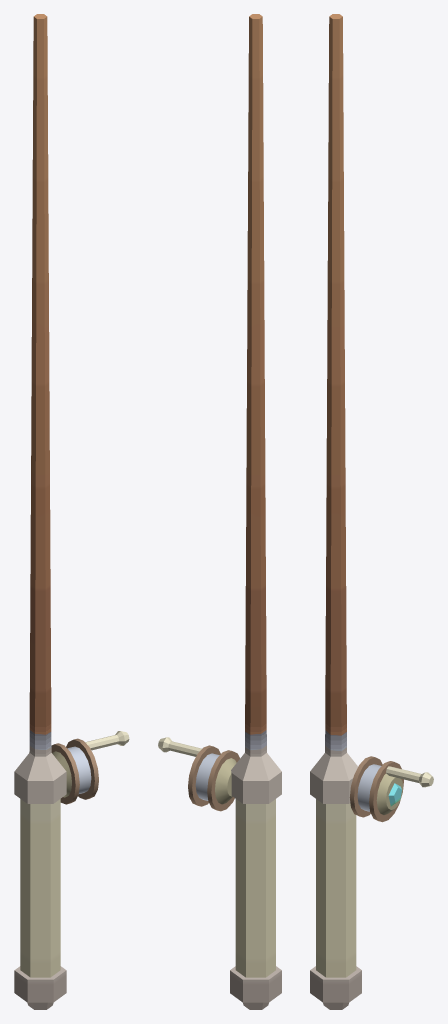
The model's file is Canne_a_Peche.fbx.
3 renders of one model, left to right at view 1: azimuth 30°, elevation 25°; view 2: azimuth 150°, elevation 25°; view 3: azimuth 330°, elevation 25°, orthographic.
Visible parts, largest first — view 1: Cylinder; view 2: Cylinder; view 3: Cylinder.
Boxes of the visible parts, x1,y1,x2,y2 form: Cylinder: [14, 14, 129, 1009]; Cylinder: [158, 14, 281, 1009]; Cylinder: [310, 14, 433, 1009].
Size of the model in its own units: 109 by 931 by 56.53.
